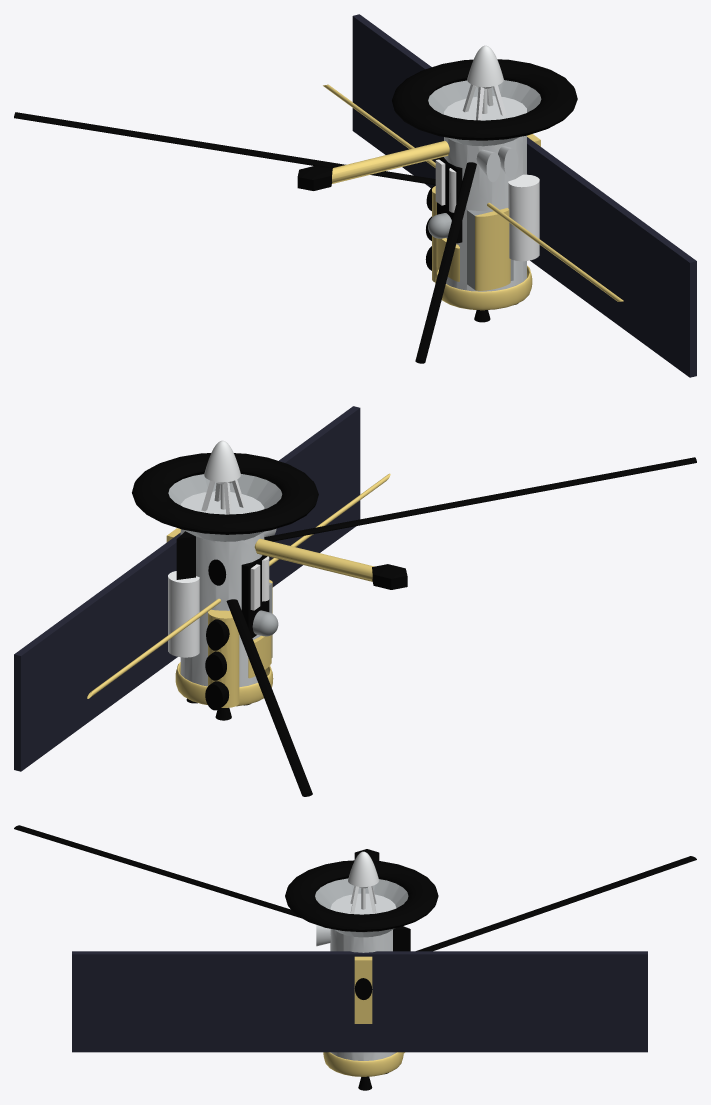
Rendered from sattelite.glb.
3 views of the same model, one above another, from view 1: azimuth 30°, elevation 25°; view 2: azimuth 150°, elevation 25°; view 3: azimuth 270°, elevation 25° (orthographic). The views are drawn at different scales.
Parts seen in each view (by area): view 1: Object_7, Object_8, Object_5, Object_3, Object_9, Object_2, Object_4, Object_6; view 2: Object_7, Object_8, Object_5, Object_3, Object_2, Object_9, Object_4, Object_6; view 3: Object_7, Object_8, Object_3, Object_5, Object_9, Object_4.
Part boxes in pixels (x1=…): Object_7: x1=352, y1=14, x2=696, y2=377; Object_8: x1=14, y1=59, x2=577, y2=363; Object_5: x1=323, y1=84, x2=623, y2=310; Object_3: x1=444, y1=96, x2=526, y2=291; Object_9: x1=428, y1=80, x2=541, y2=289; Object_2: x1=462, y1=84, x2=539, y2=261; Object_4: x1=467, y1=45, x2=503, y2=113; Object_6: x1=435, y1=159, x2=456, y2=212; Object_7: x1=14, y1=406, x2=360, y2=771; Object_8: x1=132, y1=453, x2=696, y2=796; Object_5: x1=87, y1=473, x2=390, y2=707; Object_3: x1=180, y1=491, x2=276, y2=687; Object_2: x1=168, y1=479, x2=245, y2=657; Object_9: x1=168, y1=474, x2=282, y2=657; Object_4: x1=204, y1=440, x2=240, y2=509; Object_6: x1=250, y1=556, x2=269, y2=610; Object_7: x1=72, y1=951, x2=647, y2=1052; Object_8: x1=14, y1=825, x2=696, y2=1090; Object_3: x1=316, y1=893, x2=396, y2=1060; Object_5: x1=323, y1=956, x2=404, y2=1076; Object_9: x1=315, y1=878, x2=408, y2=937; Object_4: x1=348, y1=851, x2=379, y2=909.
Bounding box in the file's own units: 102 × 71 × 196.
Materials: 8 (1 with a texture image).
